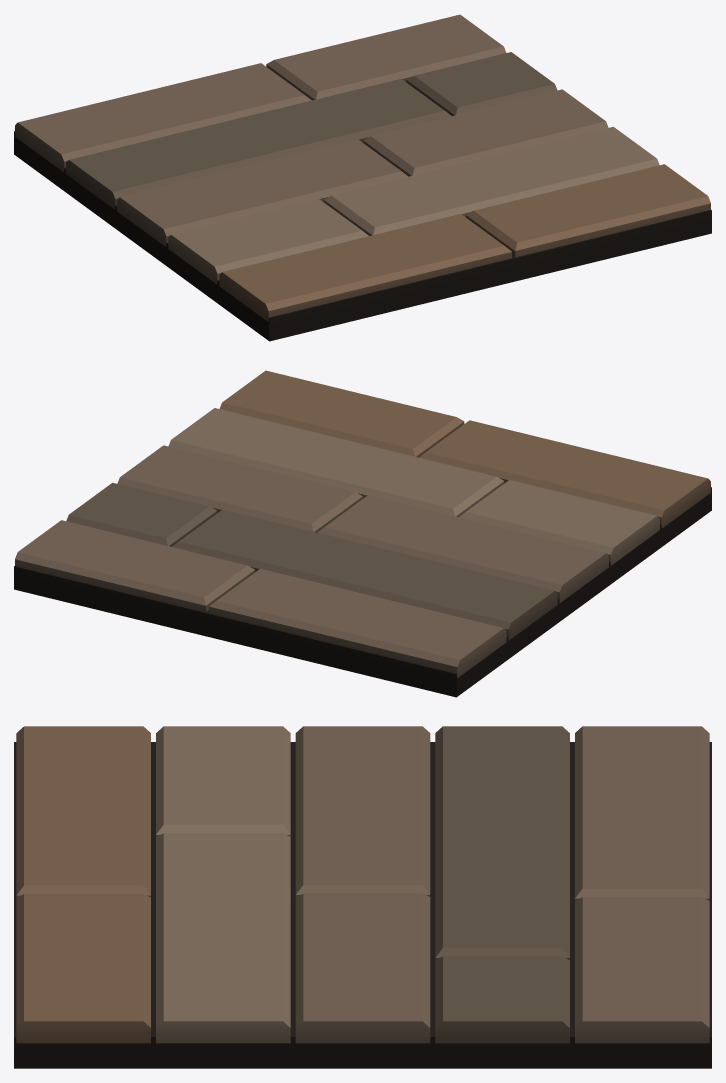
The model's file is floor_planks_rotten_small_B.glb.
The picture shows the model from 3 angles, top to bottom: view 1: azimuth 30°, elevation 25°; view 2: azimuth 150°, elevation 25°; view 3: azimuth 270°, elevation 25°; orthographic projection. The views are drawn at different scales.
Visible parts, largest first — view 1: Item; view 2: Item; view 3: Item.
Boxes of the visible parts, x1=… form: Item: x1=14, y1=14, x2=711, y2=341; Item: x1=14, y1=370, x2=711, y2=697; Item: x1=14, y1=726, x2=711, y2=1068.
Size of the model in its own units: 2 by 0.15 by 2.
1 material, 1 textured.
